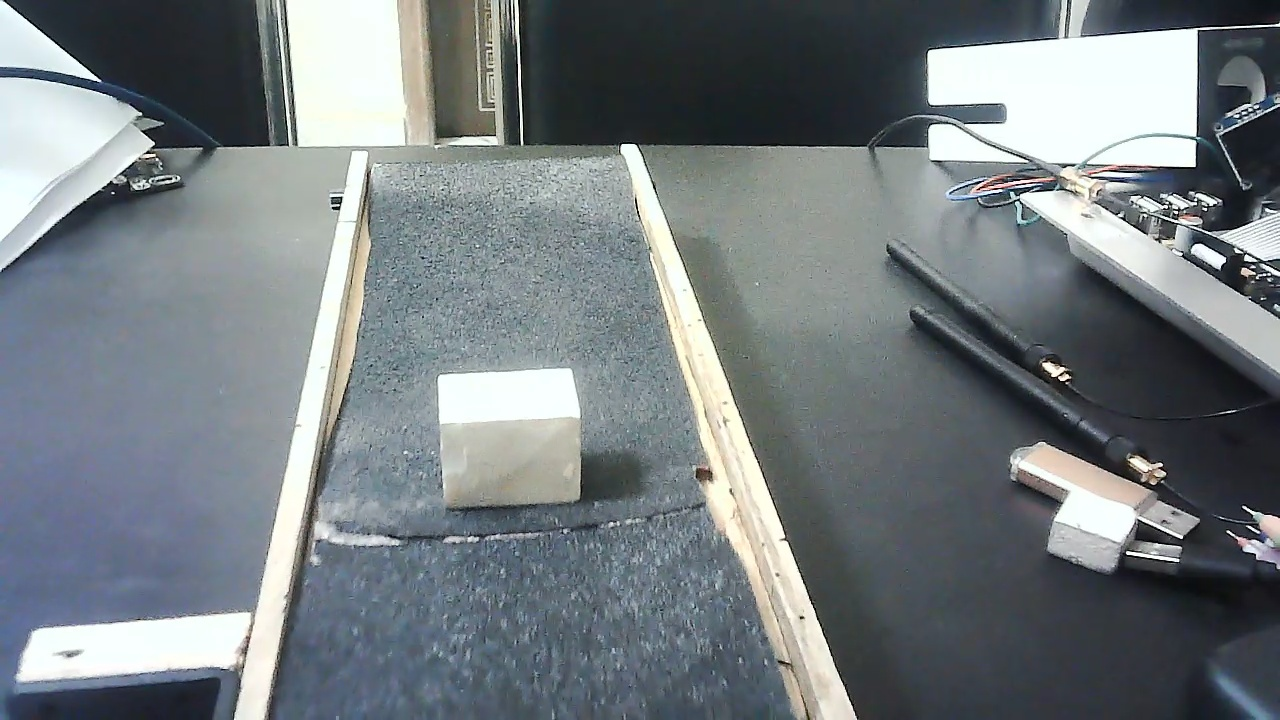Medium: (438, 364, 581, 507)
